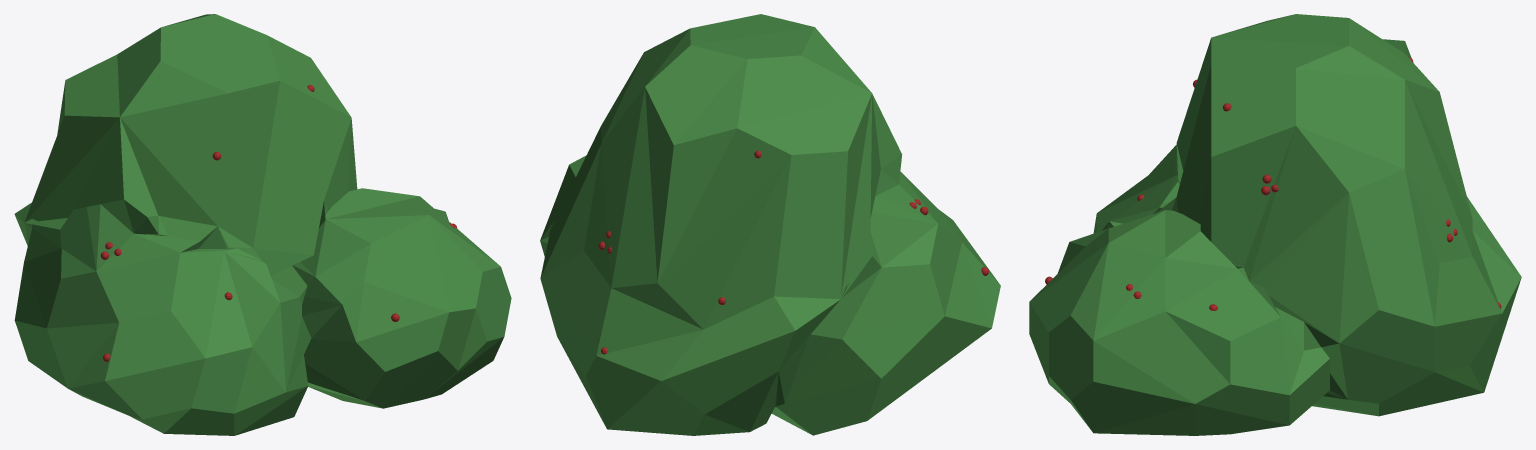
File: _staticBush.fbx
3 views of the same model, side by side, from view 1: azimuth 30°, elevation 25°; view 2: azimuth 150°, elevation 25°; view 3: azimuth 270°, elevation 25° (orthographic). The views are drawn at different scales.
Visible parts, largest first — view 1: Merge_0; view 2: Merge_0; view 3: Merge_0.
Part boxes in pixels (box(x1,y1,x2,y2)): Merge_0: box(14, 14, 511, 435); Merge_0: box(540, 14, 1000, 435); Merge_0: box(1029, 14, 1521, 435).
Size of the model in its own units: 171 by 139 by 174.
